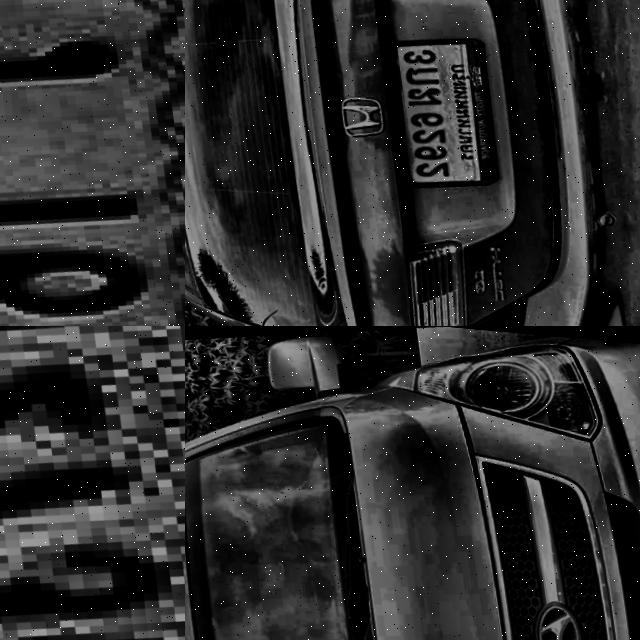license-plate: (0, 0, 185, 326), (0, 326, 185, 640), (385, 23, 503, 191)
